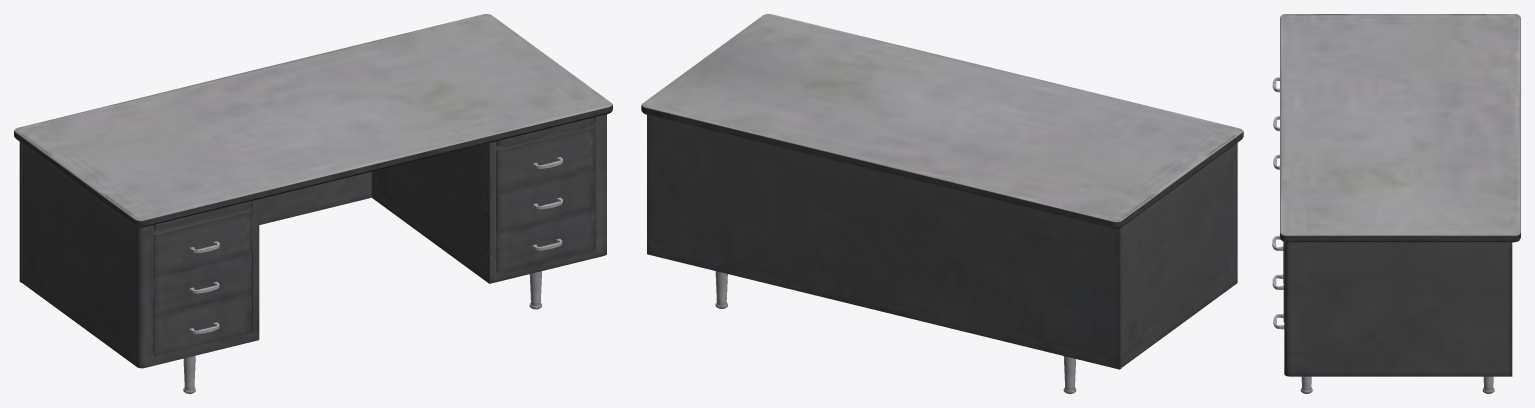
File: desk-metal-office.lite.5c46d86c.glb
The picture shows the model from 3 angles, left to right: view 1: azimuth 30°, elevation 25°; view 2: azimuth 150°, elevation 25°; view 3: azimuth 270°, elevation 25°; orthographic projection. The views are drawn at different scales.
Visible parts, largest first — view 1: model; view 2: model; view 3: model.
Part boxes in pixels (box(x1,y1,x2,y2)): model: box(14, 14, 612, 393); model: box(641, 14, 1243, 393); model: box(1272, 14, 1520, 393).
Bounding box in the file's own units: 2 × 0.7875 × 0.9472.
Materials: 1 (1 with a texture image).
